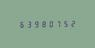eight: (38, 20, 44, 28)
five: (59, 19, 65, 27)
nine: (31, 20, 37, 28)
seven: (52, 19, 58, 27)
six: (17, 20, 23, 28)
three: (24, 20, 30, 28)
two: (66, 19, 72, 27)
zero: (45, 20, 51, 27)
